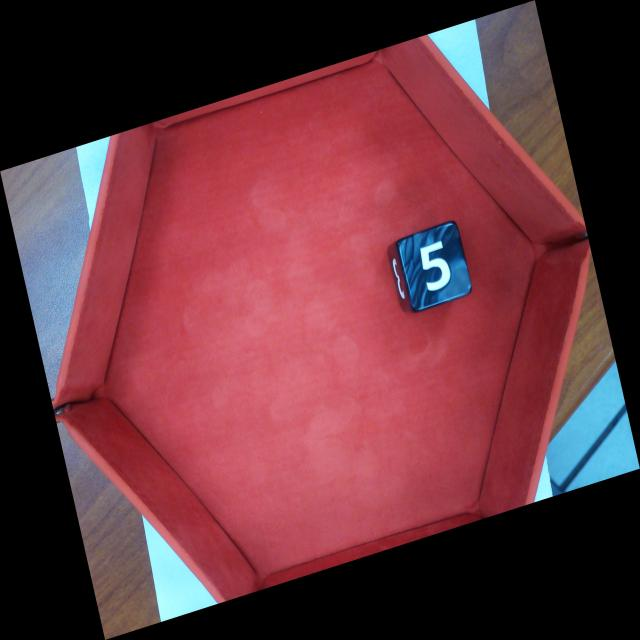dice: (400, 223, 472, 307)
